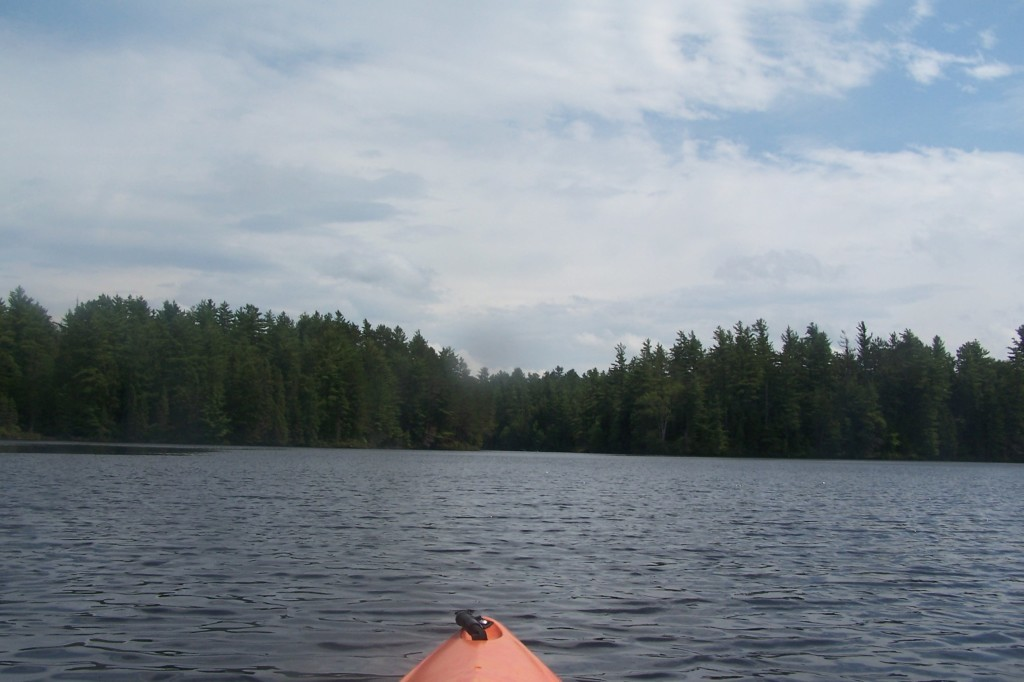Tree: (0, 282, 1022, 461)
